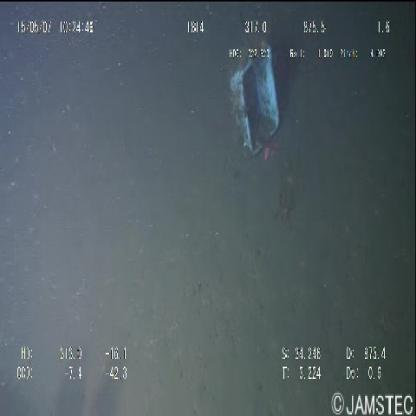Rác: (231, 46, 280, 158)
